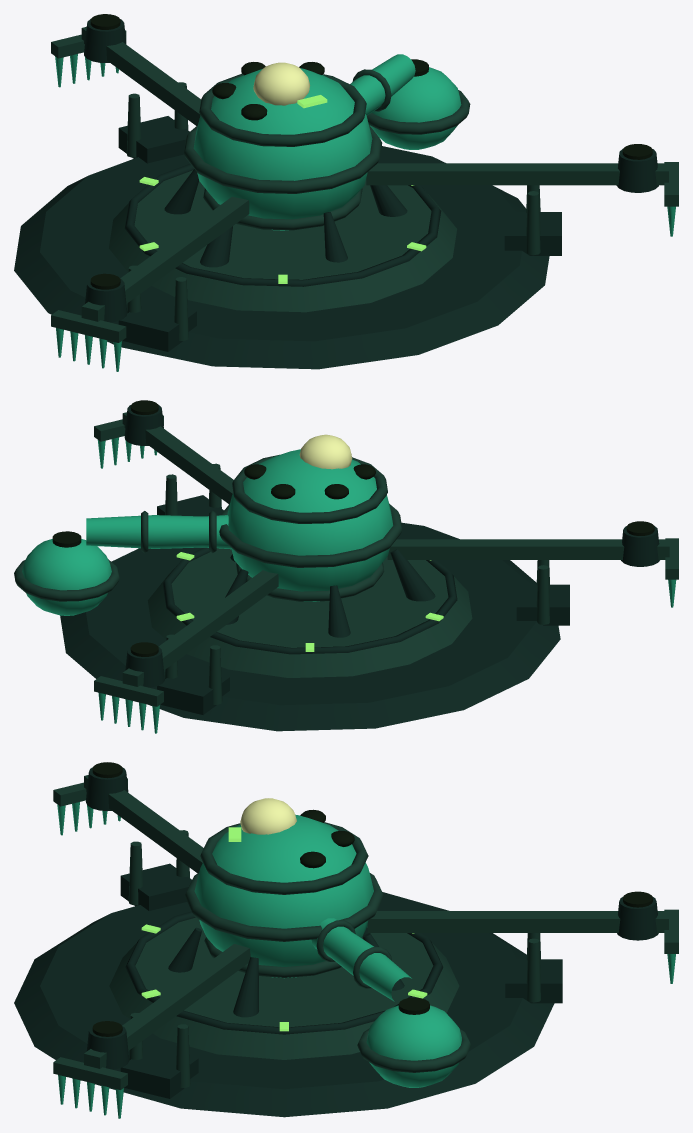
File: bio-reactor-pelagia.glb
The picture shows the model from 3 angles, top to bottom: view 1: azimuth 30°, elevation 25°; view 2: azimuth 150°, elevation 25°; view 3: azimuth 270°, elevation 25°; orthographic projection. The views are drawn at different scales.
Visible parts, largest first — view 1: holdfast_mat, footprint_slab, reactor_vessel, intake_boom (×3), anchor_foot (×3), outflow_sac, slab_kerb, throat_drum (×3), vessel_ring_1, vessel_ring_2, rake_beam (×3), crown_bud (+9 smaller); view 2: holdfast_mat, footprint_slab, reactor_vessel, intake_boom (×3), anchor_foot (×3), outflow_sac, outflow_gut, throat_drum (×3), slab_kerb, vessel_ring_1, vessel_ring_2, rake_beam (×3) (+7 smaller); view 3: holdfast_mat, footprint_slab, reactor_vessel, intake_boom (×3), anchor_foot (×3), outflow_sac, throat_drum (×3), slab_kerb, vessel_ring_2, outflow_gut, vessel_ring_1, rake_beam (×3) (+7 smaller).
Part boxes in pixels (<box>): holdfast_mat: <box>14,146,549,369</box>; footprint_slab: <box>109,170,456,312</box>; reactor_vessel: <box>193,68,372,230</box>; intake_boom (×3): <box>81,27,668,321</box>; anchor_foot (×3): <box>118,116,561,351</box>; outflow_sac: <box>369,67,461,149</box>; slab_kerb: <box>124,164,441,286</box>; throat_drum (×3): <box>84,19,658,322</box>; vessel_ring_1: <box>183,125,382,193</box>; vessel_ring_2: <box>199,73,366,146</box>; rake_beam (×3): <box>51,30,678,342</box>; crown_bud: <box>253,62,310,105</box>; holdfast_mat: <box>60,522,560,731</box>; footprint_slab: <box>147,548,472,677</box>; reactor_vessel: <box>227,449,393,601</box>; intake_boom (×3): <box>122,412,669,686</box>; anchor_foot (×3): <box>157,495,569,714</box>; outflow_sac: <box>22,539,111,615</box>; outflow_gut: <box>86,515,231,549</box>; throat_drum (×3): <box>124,405,659,687</box>; slab_kerb: <box>162,547,457,654</box>; vessel_ring_1: <box>219,503,402,567</box>; vessel_ring_2: <box>232,454,387,523</box>; rake_beam (×3): <box>94,415,678,706</box>; holdfast_mat: <box>14,892,554,1117</box>; footprint_slab: <box>109,917,459,1059</box>; reactor_vessel: <box>194,814,373,978</box>; intake_boom (×3): <box>84,775,668,1068</box>; anchor_foot (×3): <box>120,863,562,1098</box>; outflow_sac: <box>366,1005,461,1087</box>; throat_drum (×3): <box>85,767,658,1069</box>; slab_kerb: <box>125,911,443,1034</box>; vessel_ring_2: <box>200,822,368,894</box>; outflow_gut: <box>311,918,411,1001</box>; vessel_ring_1: <box>184,873,383,941</box>; rake_beam (×3): <box>53,778,678,1089</box>.
Size of the model in its own units: 180 by 54.27 by 166.
